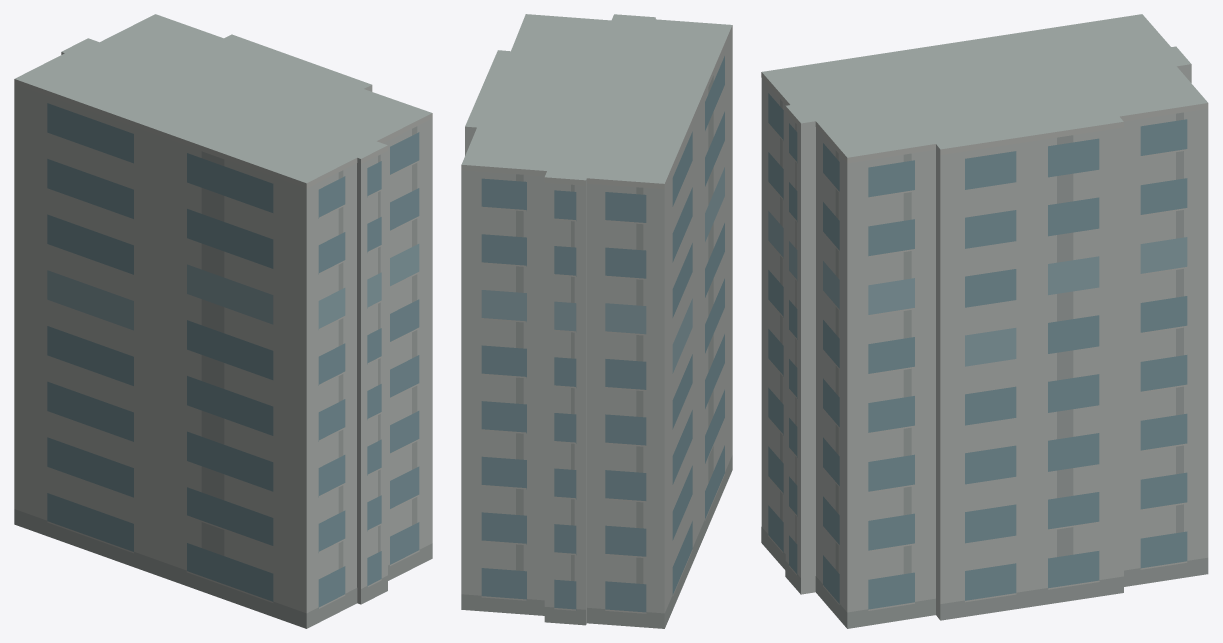
The model's file is survey-upis-32806399.glb.
3 views of the same model, side by side, from view 1: azimuth 30°, elevation 25°; view 2: azimuth 150°, elevation 25°; view 3: azimuth 270°, elevation 25° (orthographic). The views are drawn at different scales.
Visible parts, largest first — view 1: survey-upis-32806399.tmp; view 2: survey-upis-32806399.tmp; view 3: survey-upis-32806399.tmp.
Boxes of the visible parts, bbox=[...] form: survey-upis-32806399.tmp: bbox=[14, 14, 432, 628]; survey-upis-32806399.tmp: bbox=[461, 14, 732, 628]; survey-upis-32806399.tmp: bbox=[761, 14, 1208, 628].
Bounding box in the file's own units: 12.97 × 19.8 × 17.03.
